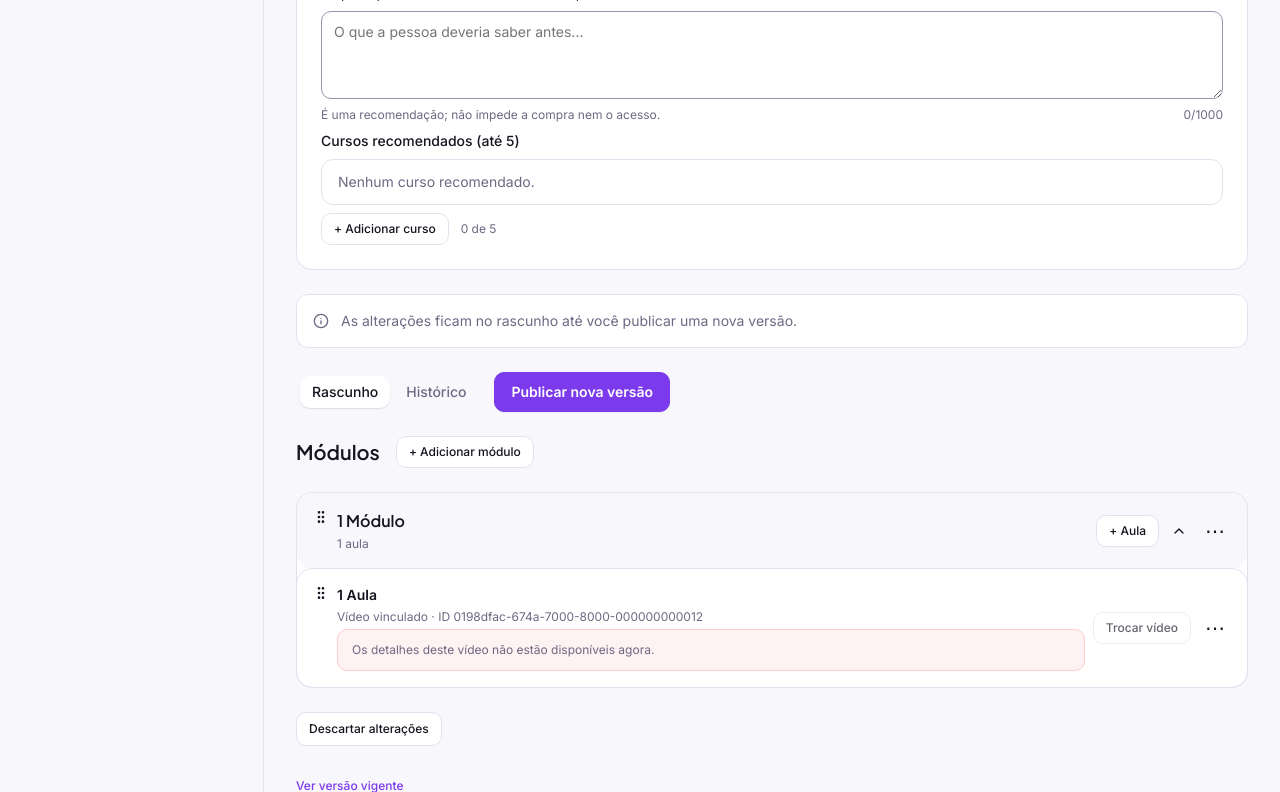
authoring course level › publication repeats missing level notice with publishing enabled and shortcut returns focus
(page scrolled)
Click the button "Publicar nova versão" at (582, 392), box x1=494 y1=372 x2=670 y2=412
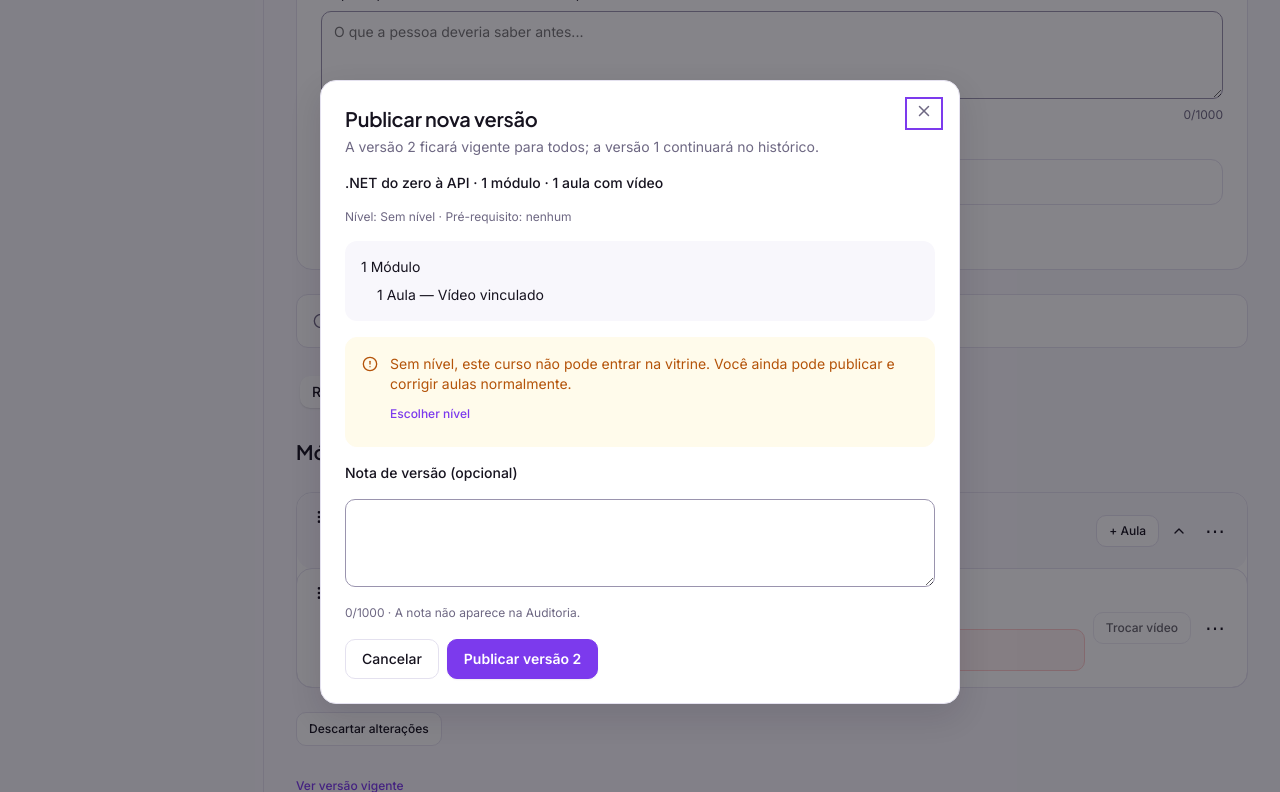
Expected: the text "Sem nível, este curso não pode entrar na vitrine" is shown, x1=390 y1=355 x2=895 y2=392
Expected: the button "Publicar versão 2" is enabled, x1=447 y1=639 x2=598 y2=679
Click the button "Escolher nível" at (430, 414), box x1=390 y1=398 x2=470 y2=430
(page scrolled)
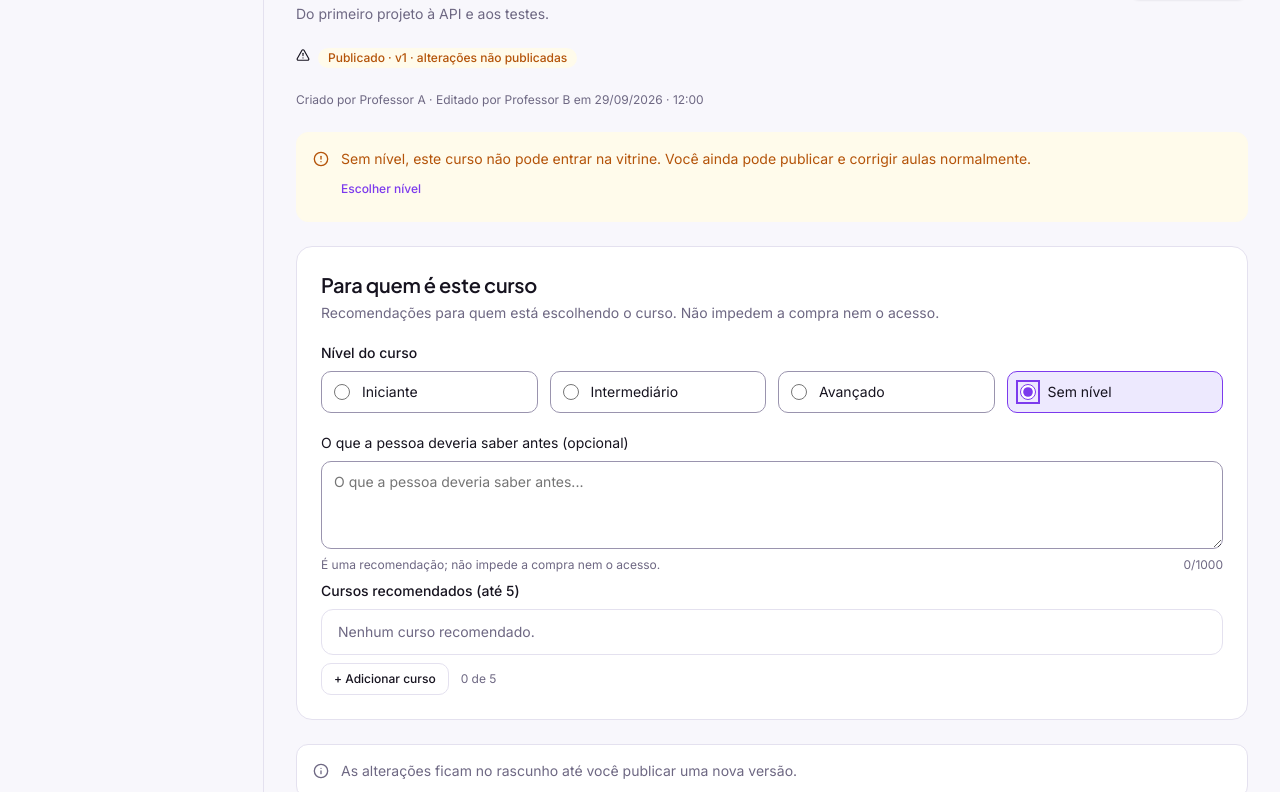
Expected: the dialog is gone
